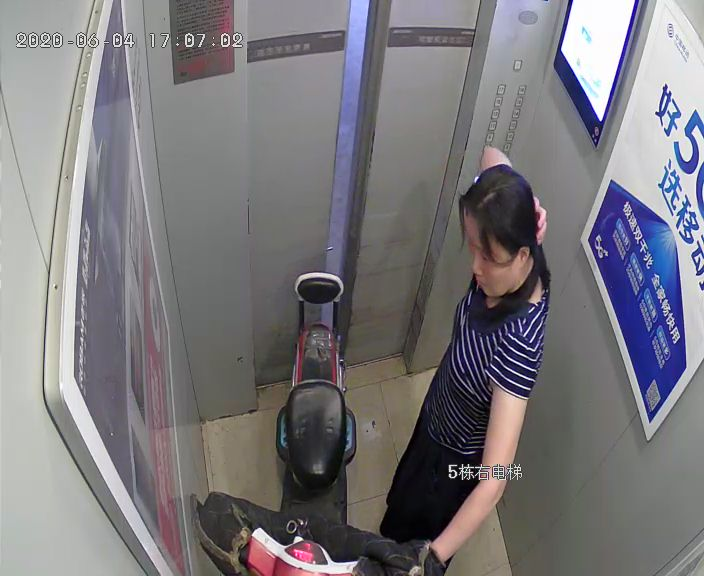Electric-bicycle: (192, 269, 423, 571)
